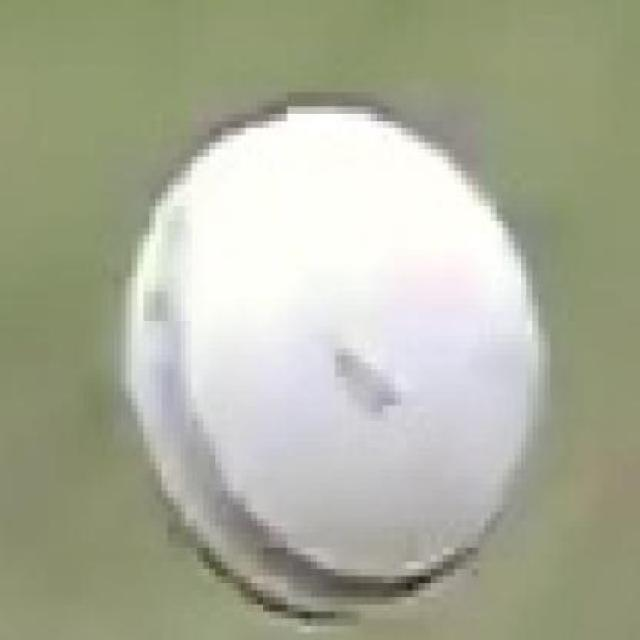Cricket ball: (111, 90, 557, 640)
